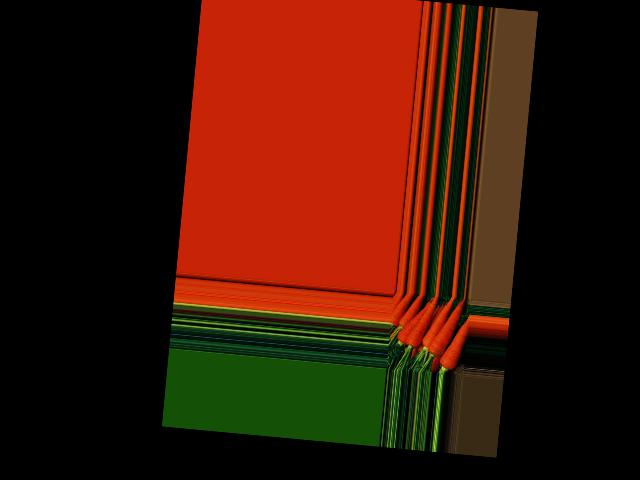carrot: (395, 293, 422, 333)
